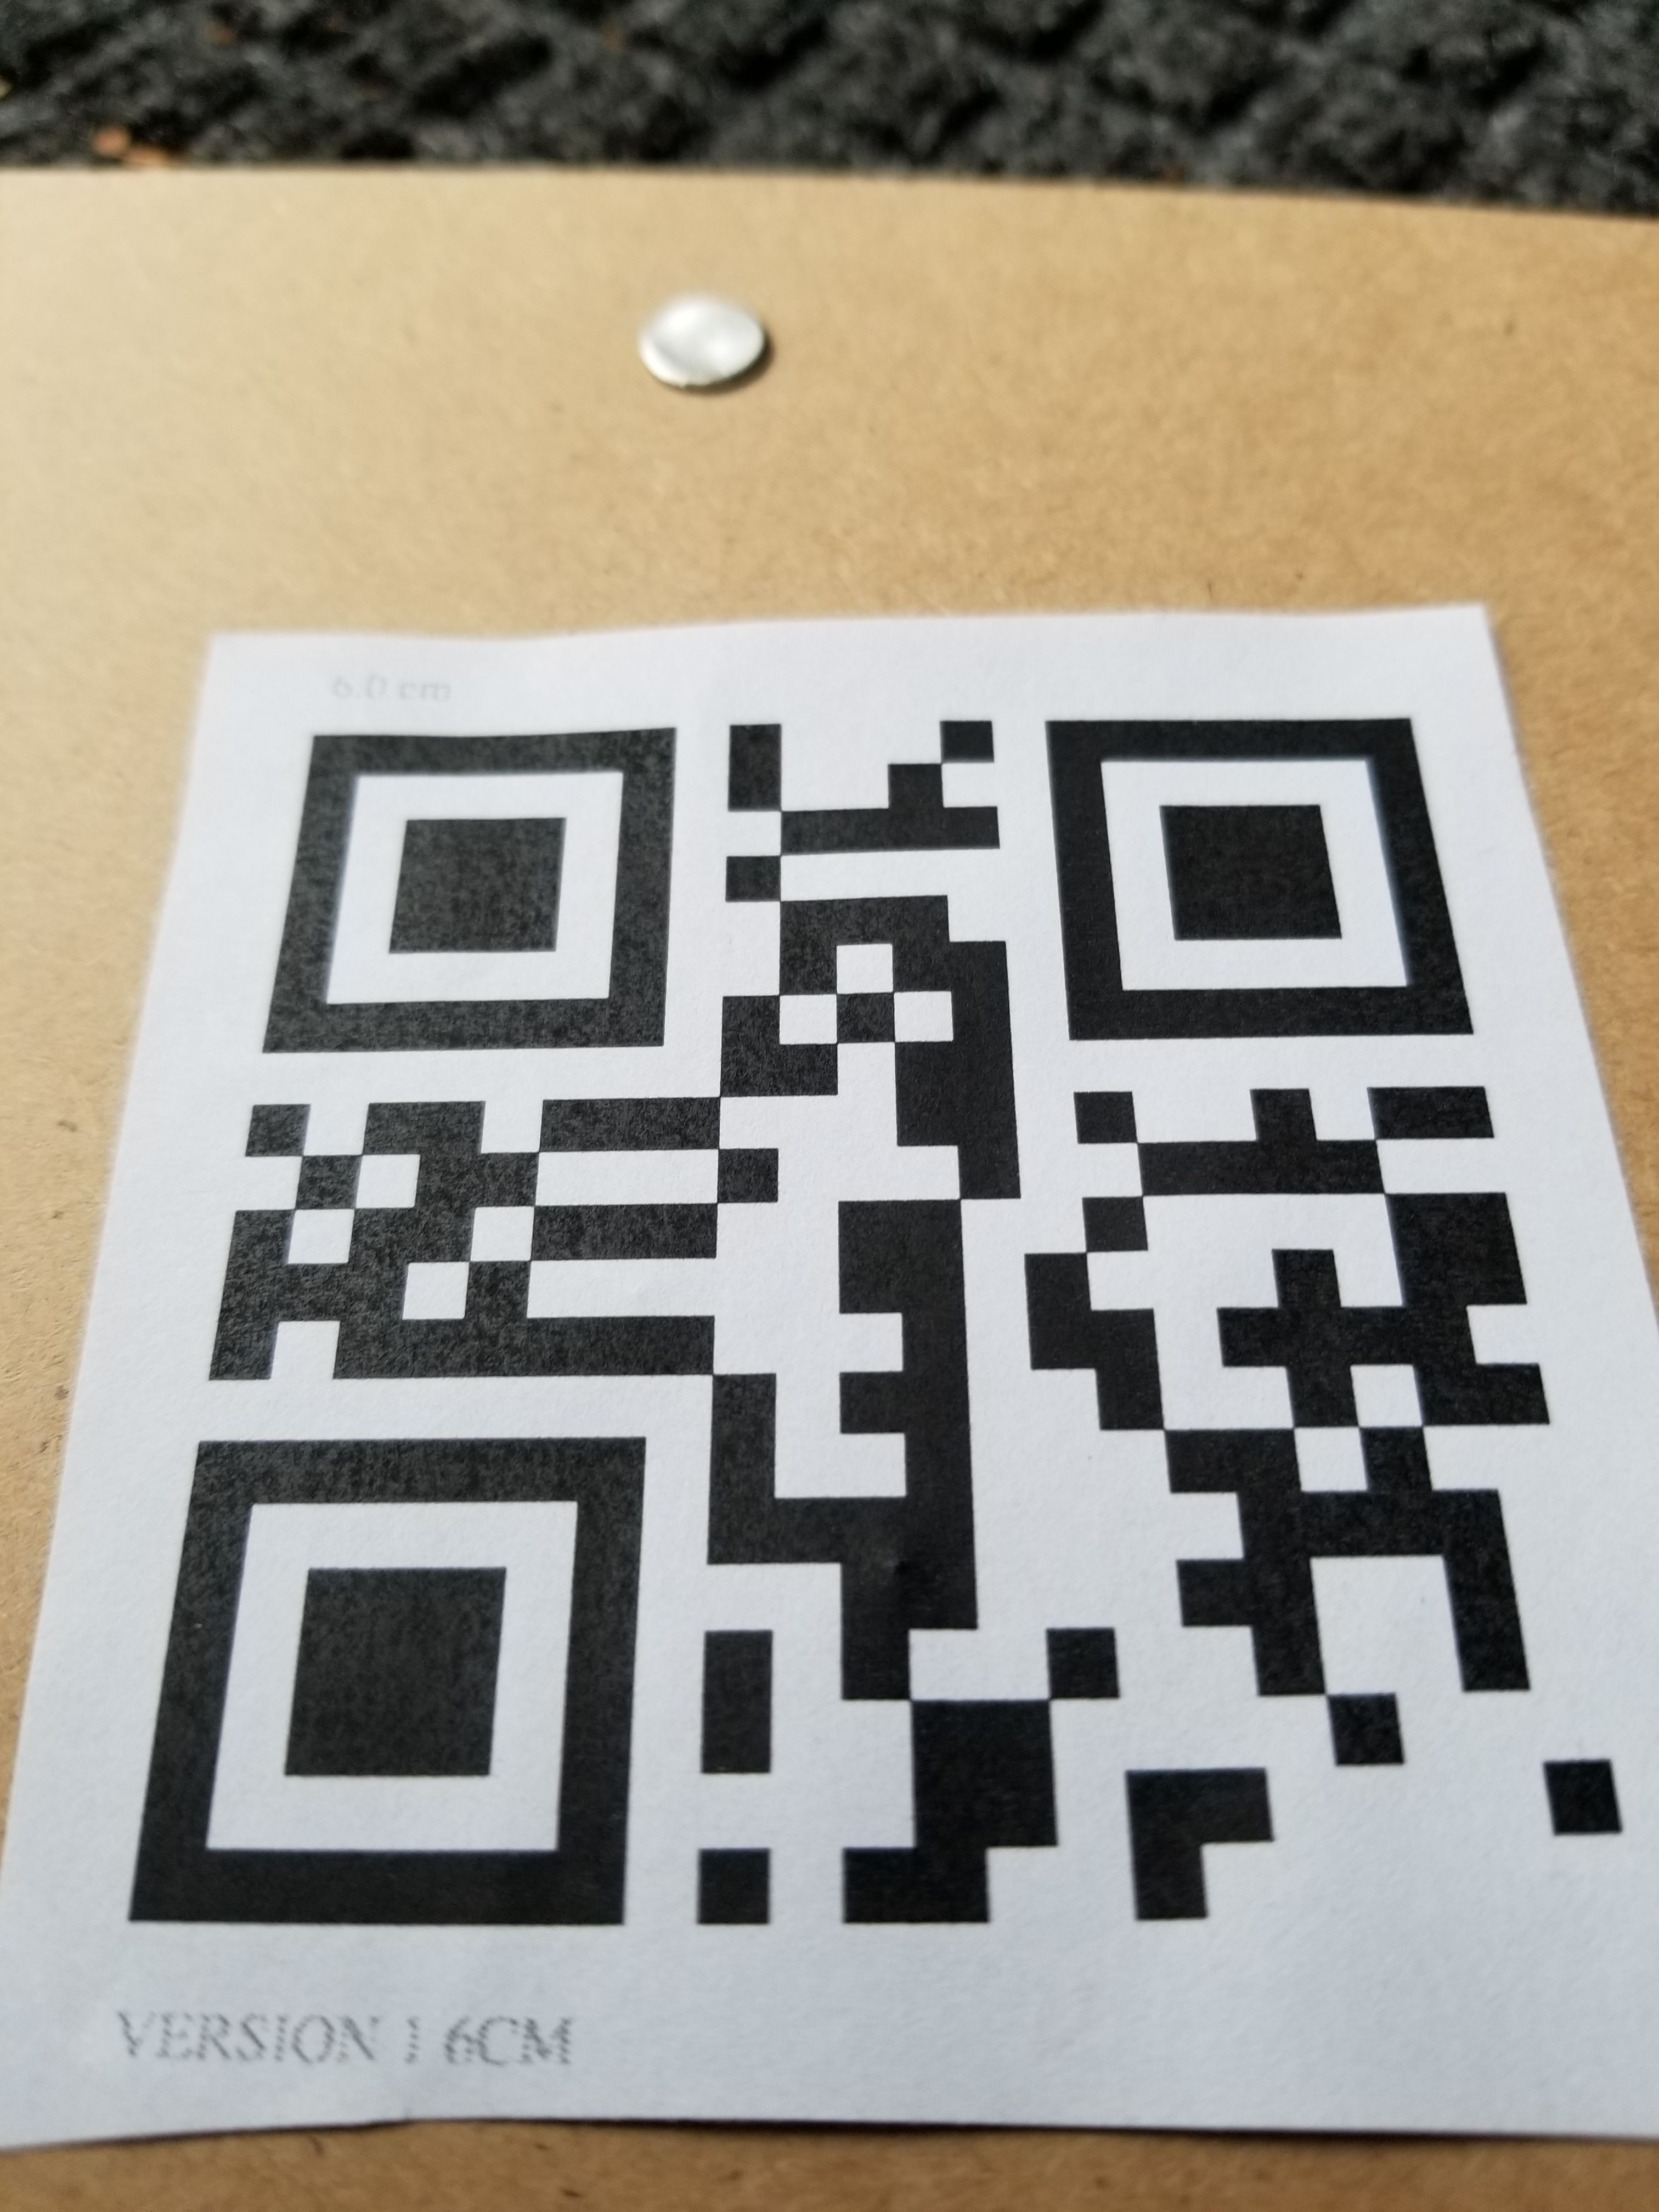QR_CODE: (84, 583, 1656, 2060)
